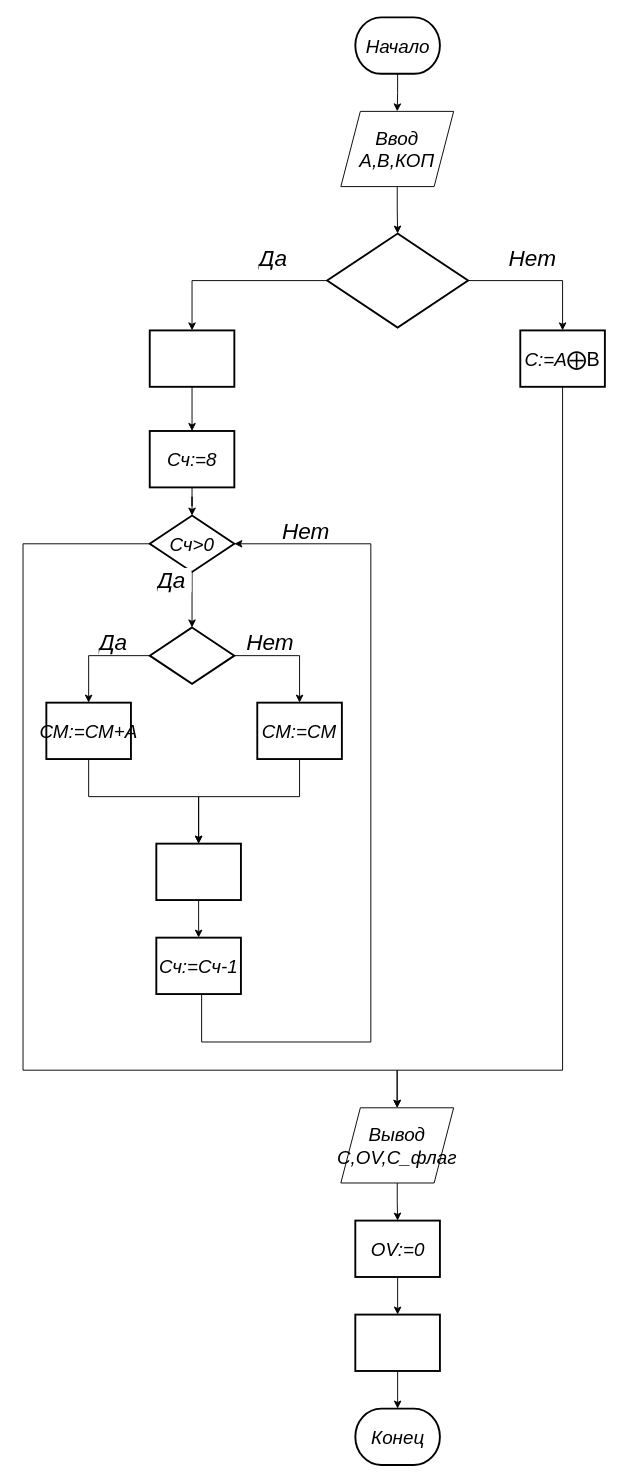
Some shapes in this 622 by 1481 pixel diagram are drawn without their labels. Each missing label, with the centre of its shape:
"b1==1" belongs at pixel 191 655.
"C_флаг:=0" belongs at pixel 397 1342.
"КОП==Умножение" belongs at pixel 397 280.
"Сдвиг СМ и B вправо" belongs at pixel 198 871.
"СМ:=0" belongs at pixel 191 358.
